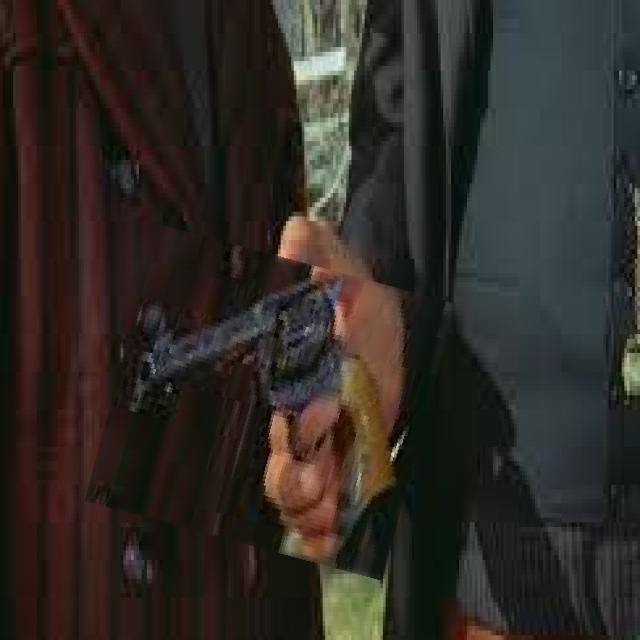Gun_Holder: (102, 243, 410, 552)
